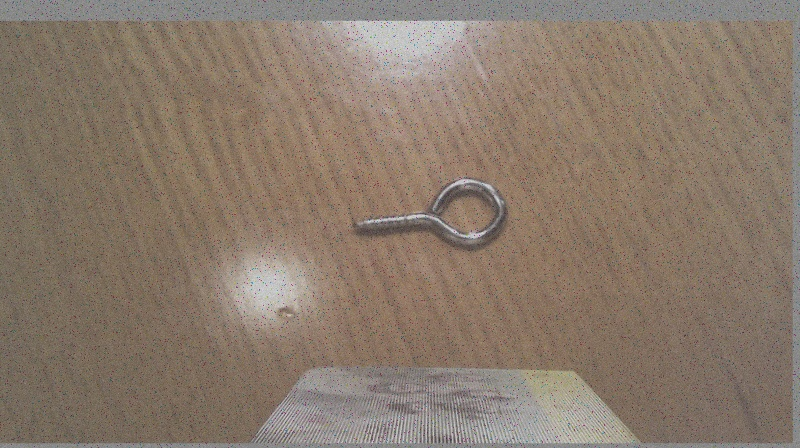O001: (347, 175, 512, 254)
